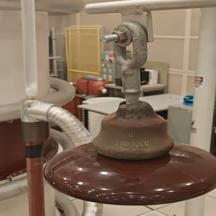insulator: (40, 98, 216, 209)
